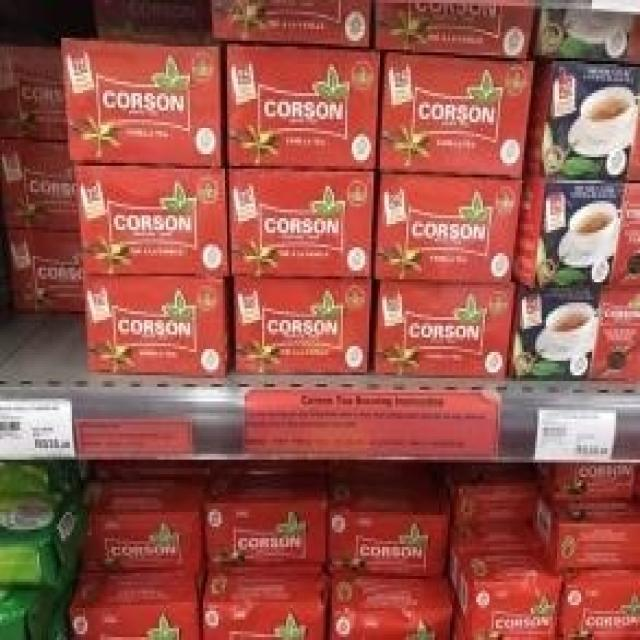box: (61, 29, 225, 166), (376, 49, 535, 177), (225, 41, 380, 169), (72, 163, 229, 276), (371, 172, 524, 282), (227, 169, 374, 276), (83, 276, 236, 378), (369, 279, 515, 378), (511, 180, 640, 288), (524, 58, 640, 177), (234, 276, 371, 375), (446, 527, 561, 637), (509, 285, 640, 381), (205, 471, 328, 570), (325, 474, 450, 570), (87, 474, 210, 570), (70, 567, 208, 640), (369, 0, 535, 58), (328, 567, 457, 640), (533, 492, 640, 576), (201, 570, 328, 640), (0, 489, 81, 596), (210, 0, 374, 47), (0, 137, 79, 233), (2, 227, 85, 314), (526, 6, 640, 64), (0, 47, 68, 143), (448, 463, 537, 532), (2, 460, 83, 532), (557, 570, 640, 637), (0, 576, 79, 640), (533, 463, 640, 503)
